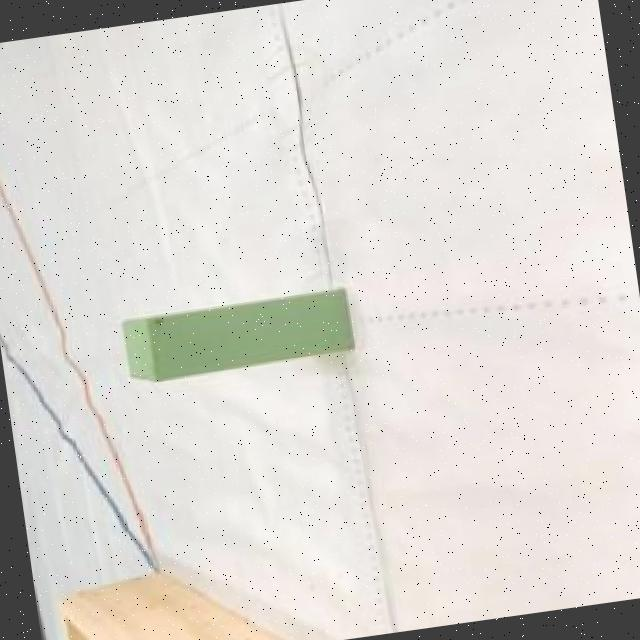greenbox: (117, 284, 356, 386)
